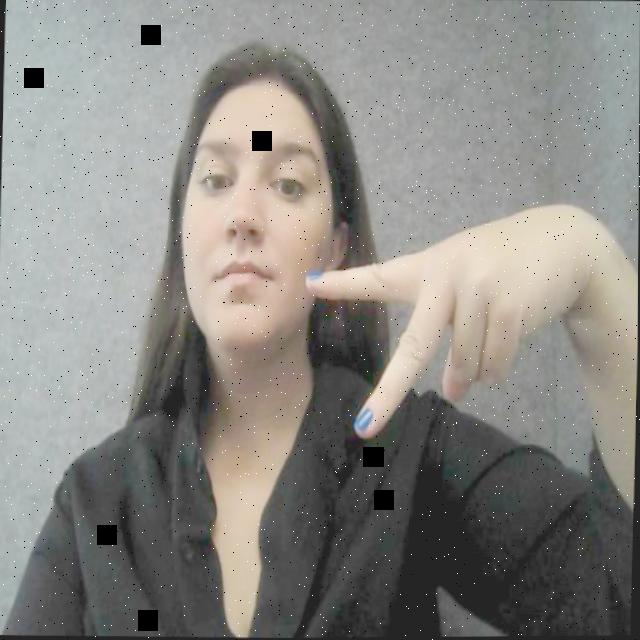Scissors: (290, 205, 539, 446)
